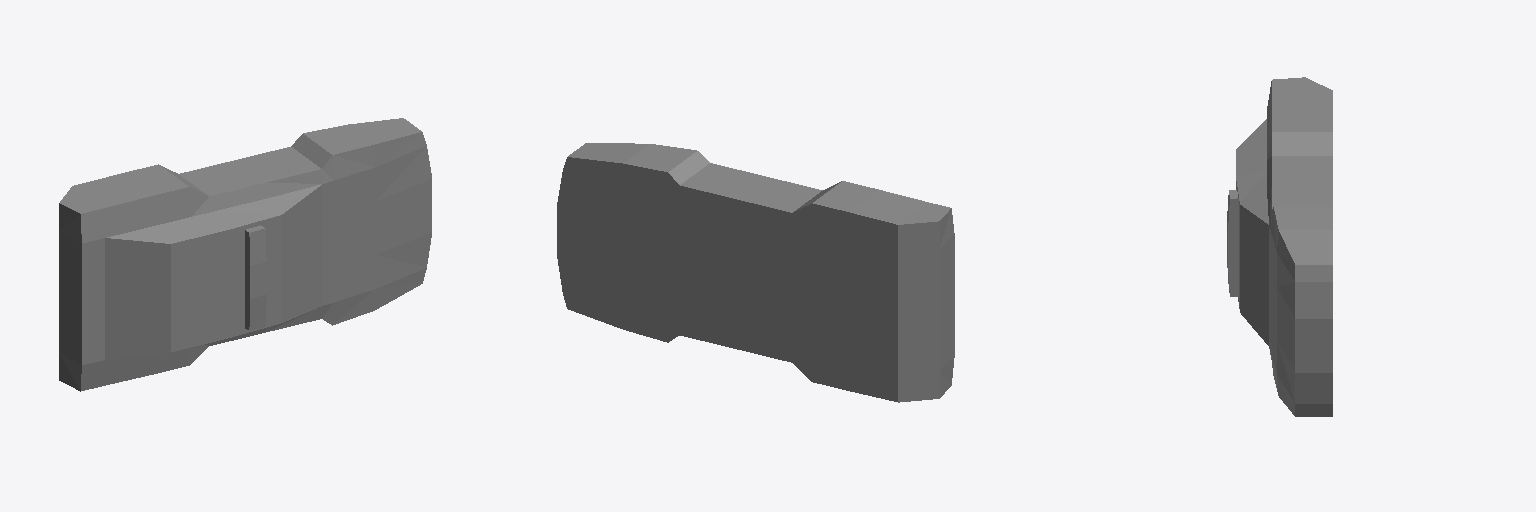
Rendered from police_car.obj.
3 views of the same model, side by side, from view 1: azimuth 30°, elevation 25°; view 2: azimuth 150°, elevation 25°; view 3: azimuth 270°, elevation 25° (orthographic).
Visible parts, largest first — view 1: police; view 2: police; view 3: police.
Boxes of the visible parts, x1=… form: police: x1=59, y1=118, x2=431, y2=391; police: x1=557, y1=143, x2=954, y2=402; police: x1=1227, y1=77, x2=1332, y2=416.
Bounding box in the file's own units: 62.37 × 28.94 × 15.62.